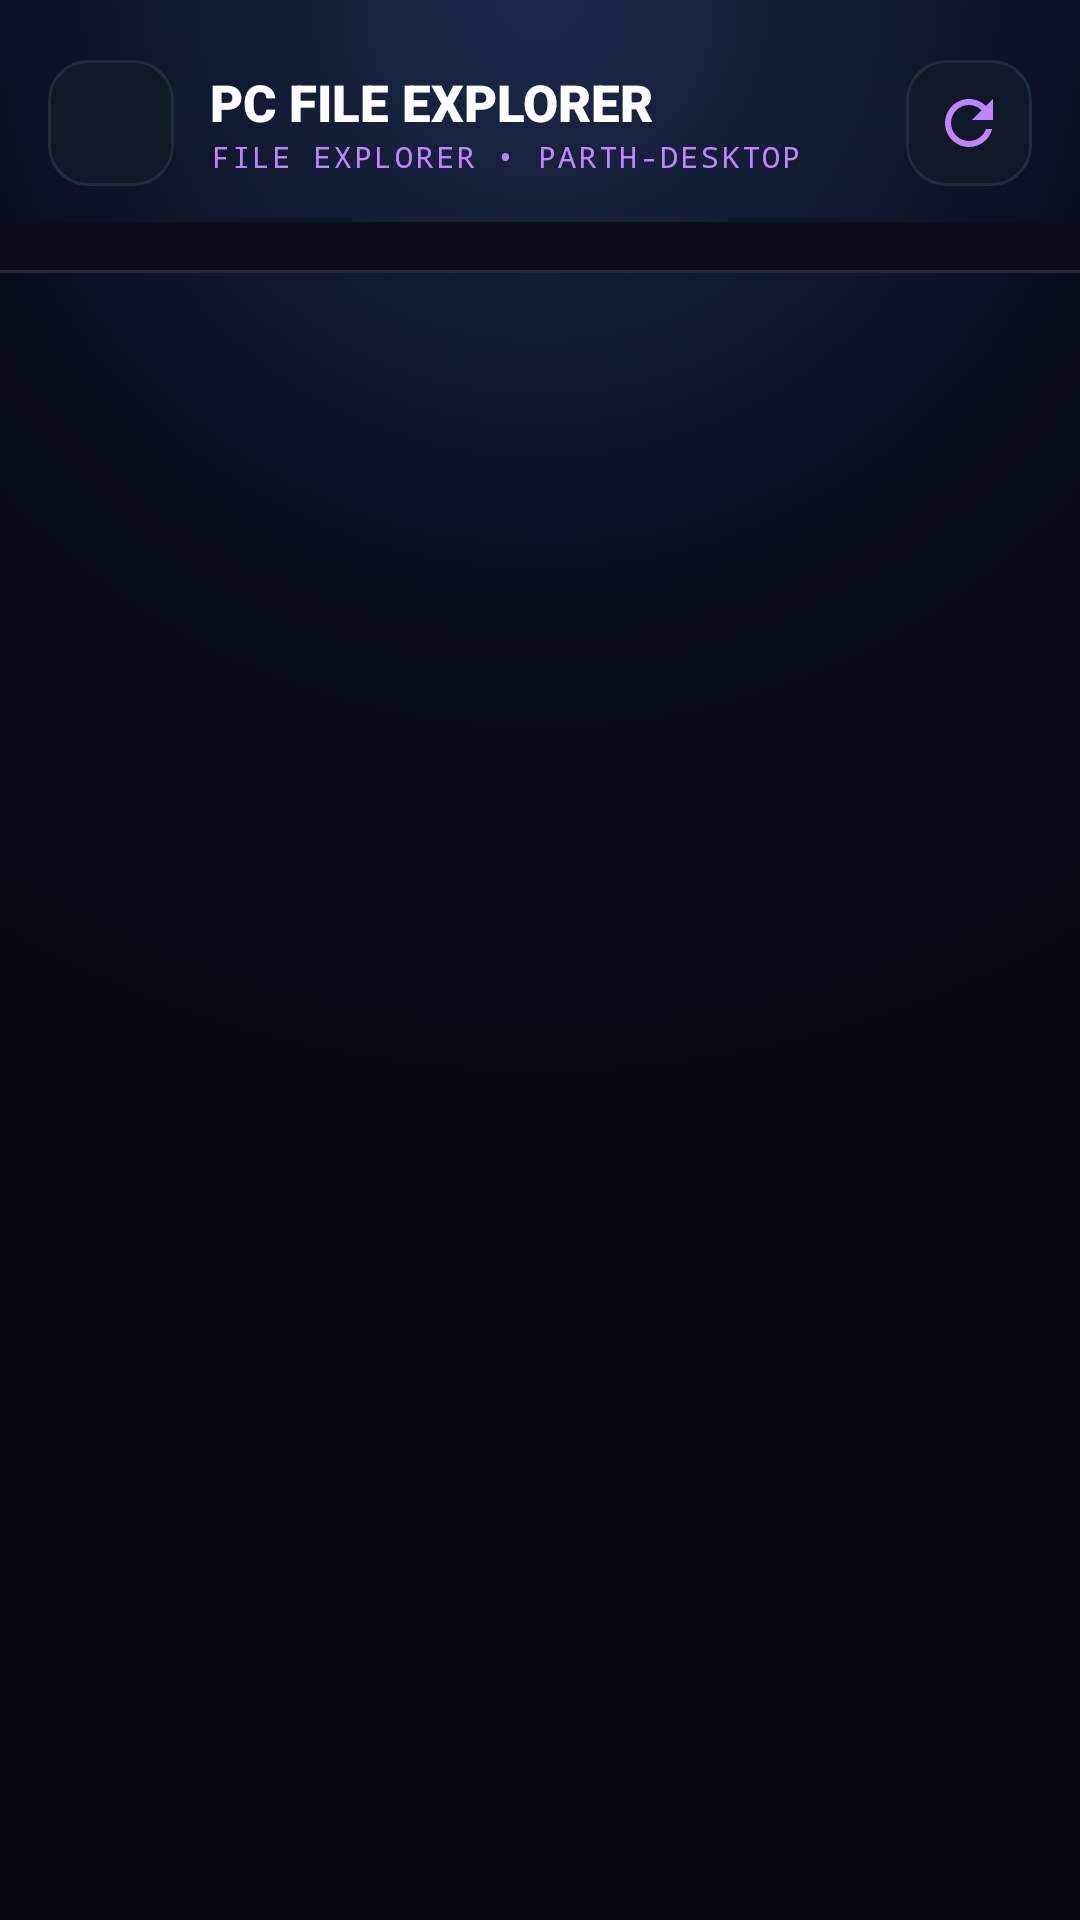

Where to tap for icons on this 1080px x 1920px app screen, as (x=x, y=y):
Refresh: (x=969, y=123)
